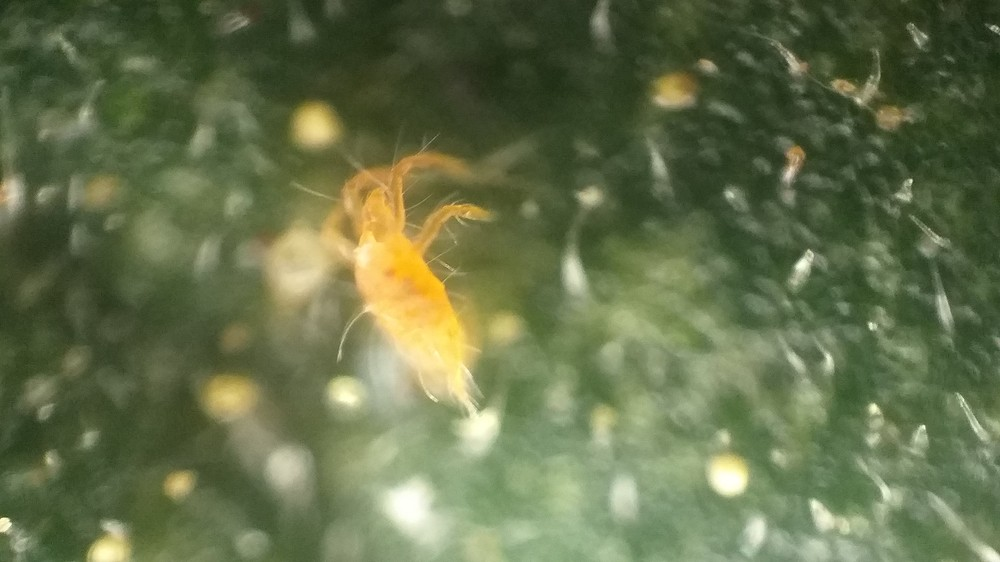Aracnido Rojo: (298, 139, 541, 442)
